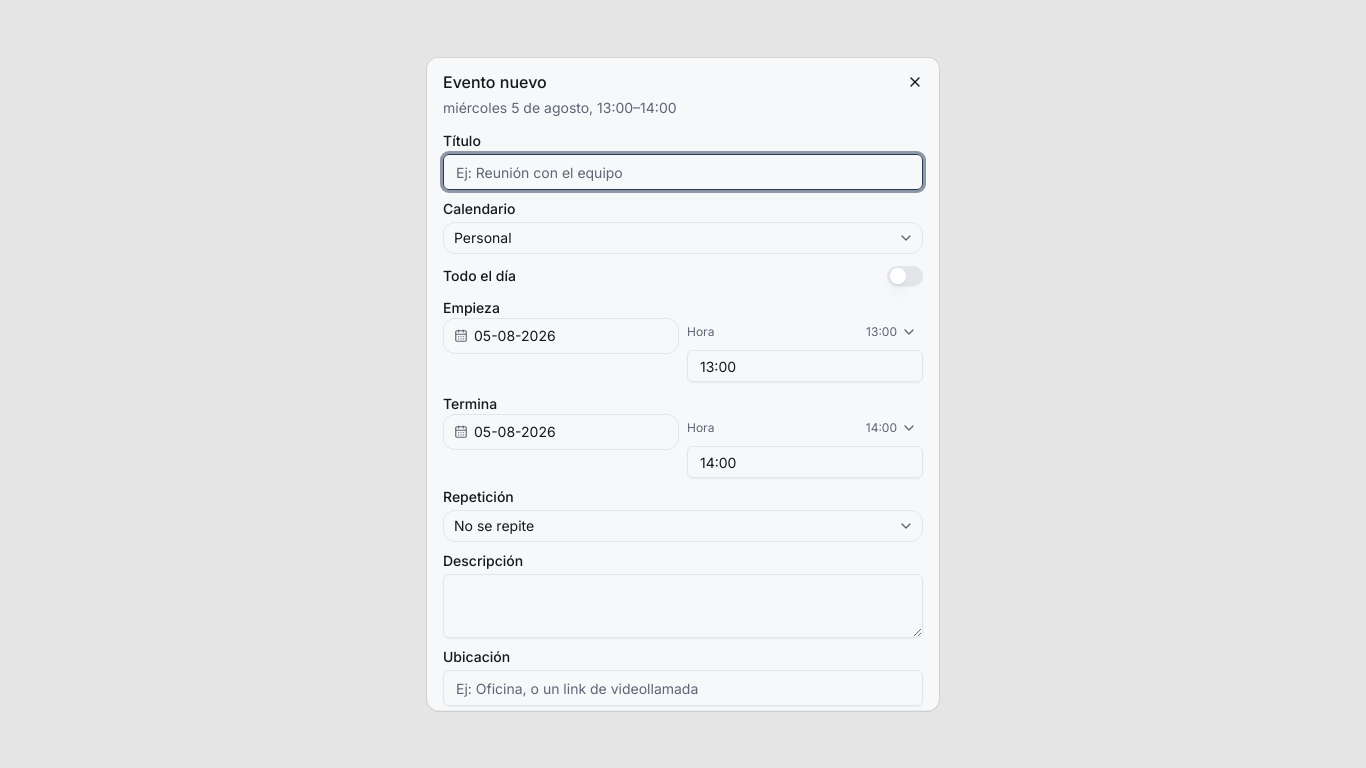
CreateEventDialog (alta-de-evento-completa) › calendarios de solo lectura no se ofrecen como destino › no ofrece un calendario de solo lectura entre las opciones
What coordinates should you click on to do the following:
click the dropdown named "Calendario"
I would click on:
 (483, 237)
Its box is [443,222,923,254].
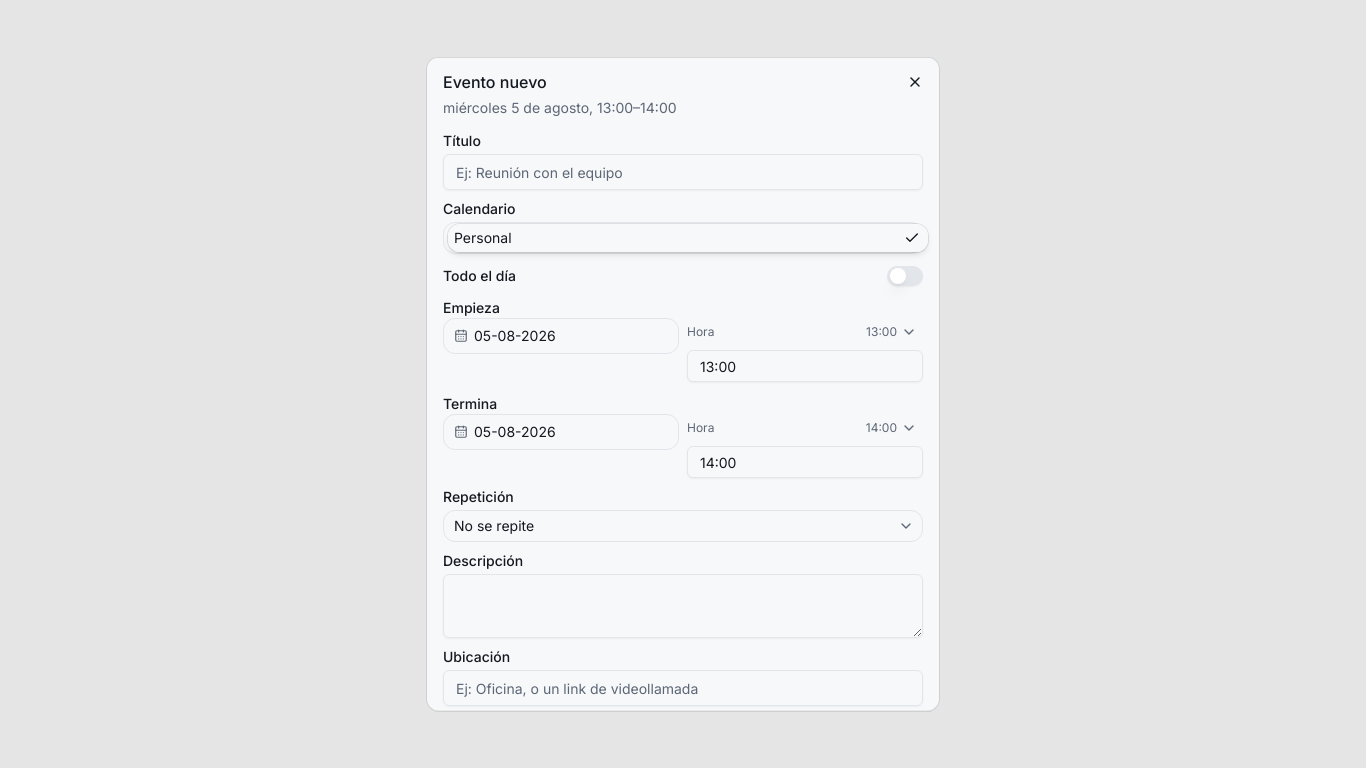
Expected: the option "Personal" is shown, [448,224,928,252]
